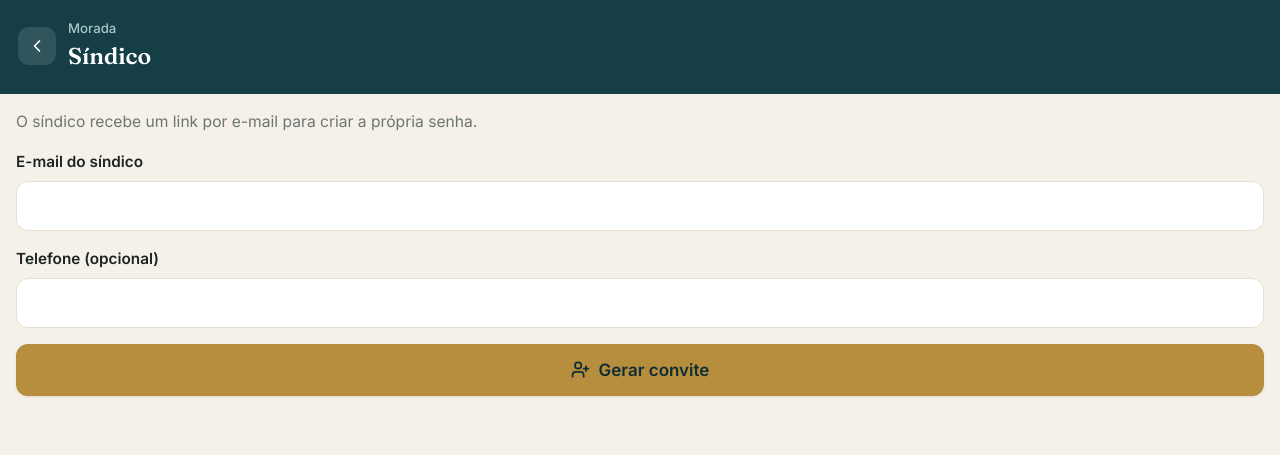
Test: SindicoScreen › requires an e-mail to invite
This screenshot has width=1280, height=455.
Click the button "Gerar convite".
click(640, 370)  # box [16,344,1264,396]
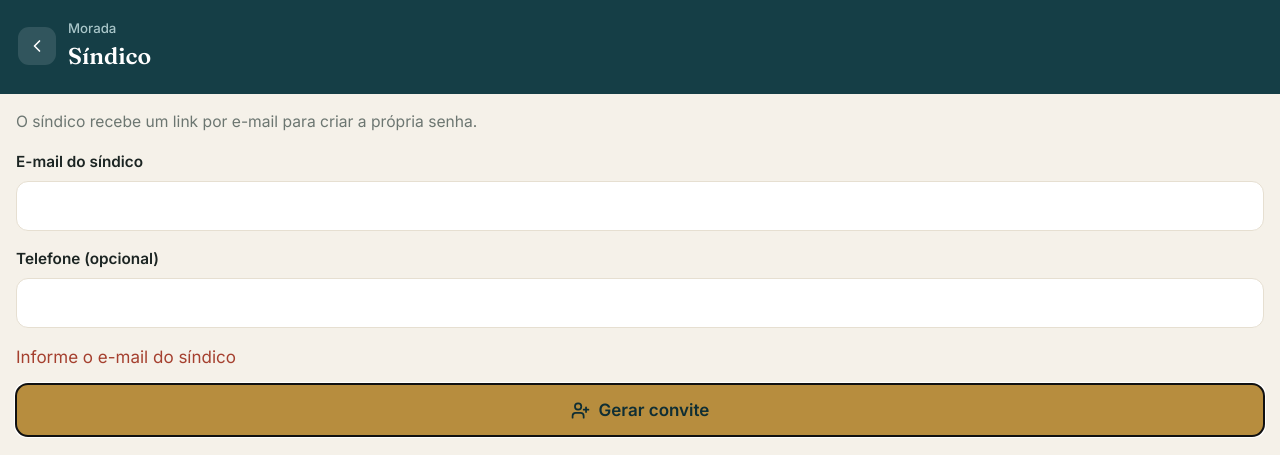
Check: the message reads "Informe o e-mail do síndico", box [16,347,236,367]
